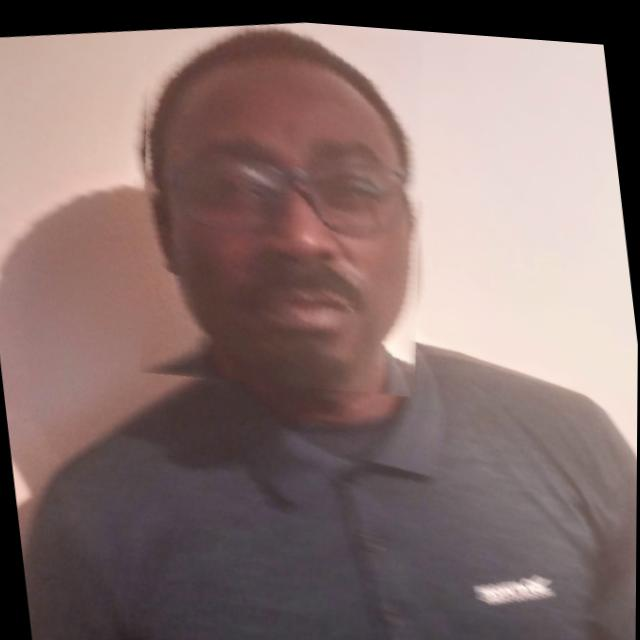sad: (110, 7, 453, 414)
